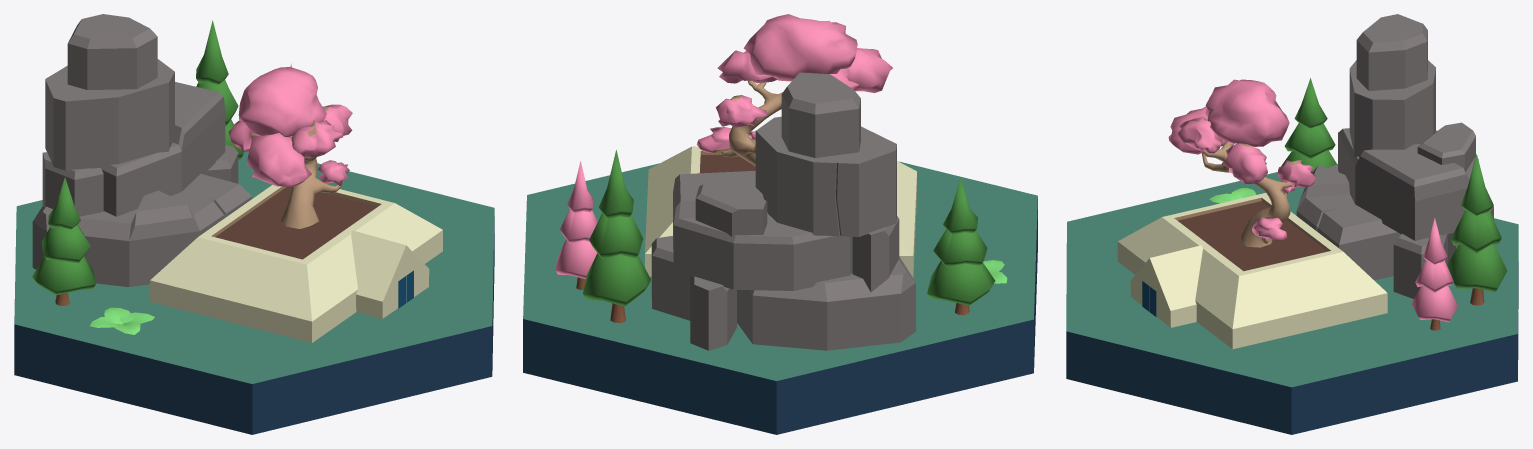
The model's file is Macro - Townhall lvl 789 Soil Land rev.fbx.
3 views of the same model, side by side, from view 1: azimuth 30°, elevation 25°; view 2: azimuth 150°, elevation 25°; view 3: azimuth 270°, elevation 25° (orthographic). The views are drawn at different scales.
Visible parts, largest first — view 1: Cylinder.051, Rock Type1 02 mesh.001, Bonsai.003, Cube.003, Tree_Spruce_tiny_01.003, Tree_Spruce_tiny_01.002, Plane.001; view 2: Cylinder.051, Rock Type1 02 mesh.001, Bonsai.003, Tree_Spruce_tiny_01.002, Tree_Spruce_tiny_01.003, Tree_Spruce_tiny_01.001; view 3: Cylinder.051, Bonsai.003, Rock Type1 02 mesh.001, Tree_Spruce_tiny_01.002, Cube.003, Tree_Spruce_tiny_01.001, Tree_Spruce_tiny_01.003.
Boxes of the visible parts, x1,y1,x2,y2 form: Cylinder.051: (14, 151, 494, 434); Rock Type1 02 mesh.001: (32, 14, 251, 286); Bonsai.003: (150, 67, 442, 342); Cube.003: (351, 230, 429, 318); Tree_Spruce_tiny_01.003: (32, 177, 95, 305); Tree_Spruce_tiny_01.002: (196, 20, 243, 159); Plane.001: (90, 307, 154, 334); Cylinder.051: (523, 161, 1037, 434); Rock Type1 02 mesh.001: (651, 72, 915, 350); Bonsai.003: (645, 14, 916, 277); Tree_Spruce_tiny_01.002: (583, 150, 650, 322); Tree_Spruce_tiny_01.003: (927, 178, 995, 315); Tree_Spruce_tiny_01.001: (555, 161, 597, 289); Cylinder.051: (1066, 172, 1518, 434); Bonsai.003: (1117, 79, 1387, 349); Rock Type1 02 mesh.001: (1296, 14, 1493, 298); Tree_Spruce_tiny_01.002: (1447, 154, 1507, 305); Cube.003: (1130, 245, 1202, 327); Tree_Spruce_tiny_01.001: (1411, 218, 1457, 330); Tree_Spruce_tiny_01.003: (1281, 78, 1336, 172).
Size of the model in its own units: 197 by 107 by 172.
